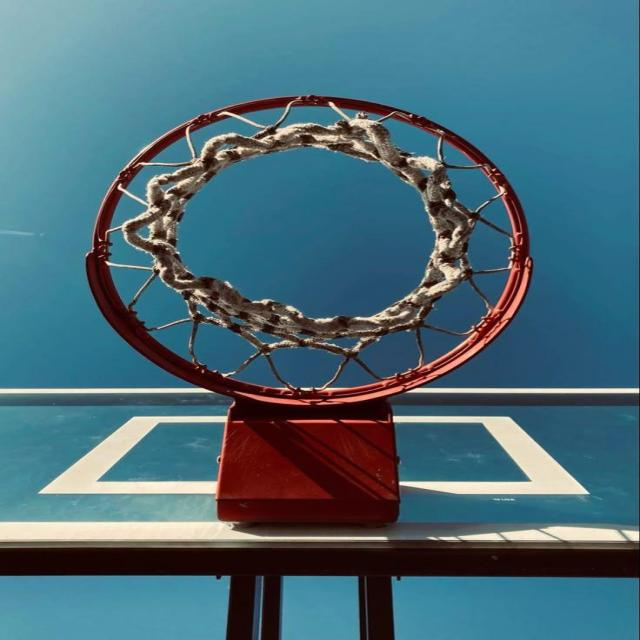hoop: (99, 65, 522, 445)
